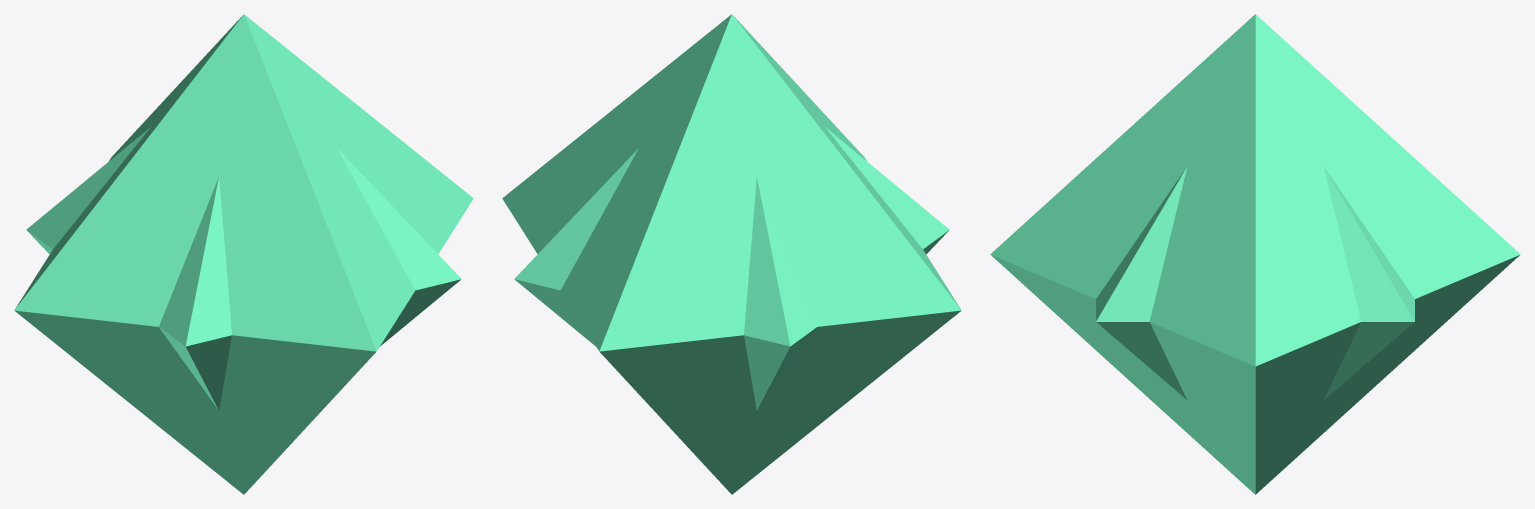
The model's file is plague_mote.glb.
3 renders of one model, left to right at view 1: azimuth 30°, elevation 25°; view 2: azimuth 150°, elevation 25°; view 3: azimuth 270°, elevation 25°, orthographic.
Parts seen in each view (by area): view 1: plague_mote; view 2: plague_mote; view 3: plague_mote.
Boxes of the visible parts, left/top/right/bottom form: plague_mote: left=14, top=14, right=473, bottom=494; plague_mote: left=502, top=14, right=961, bottom=494; plague_mote: left=990, top=14, right=1520, bottom=494.
Bounding box in the file's own units: 2 × 2 × 2.
1 material, 1 textured.
